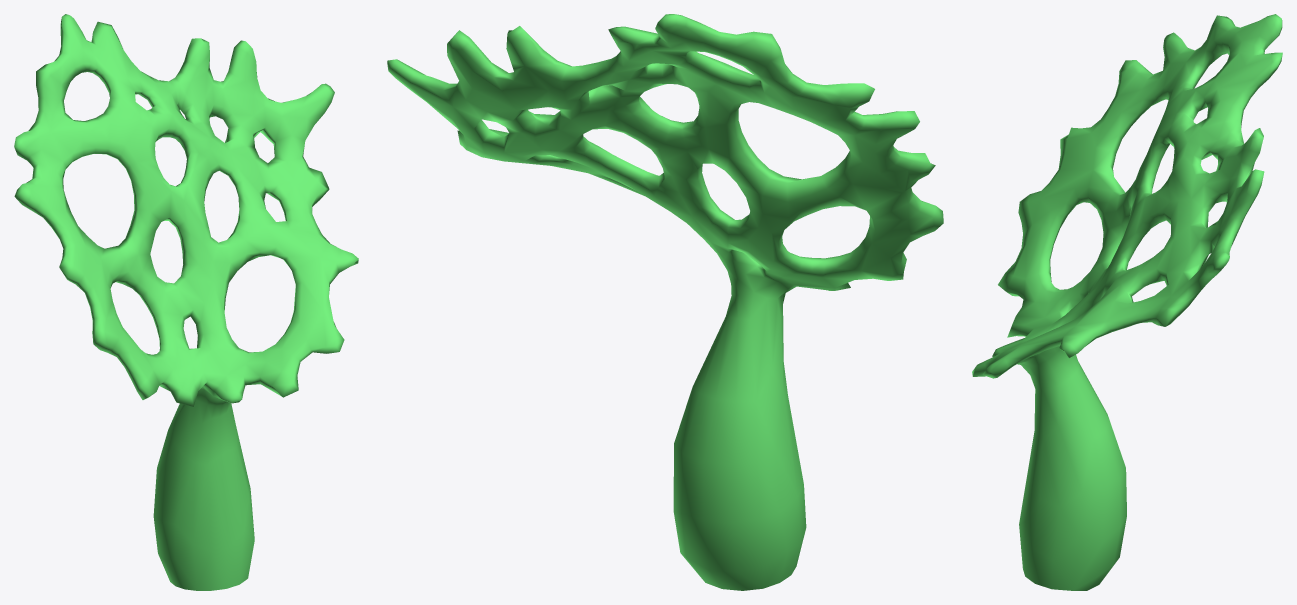
Rendered from M_Coral_Porus.fbx.
The picture shows the model from 3 angles, left to right: view 1: azimuth 30°, elevation 25°; view 2: azimuth 150°, elevation 25°; view 3: azimuth 270°, elevation 25°; orthographic projection. The views are drawn at different scales.
Visible parts, largest first — view 1: coral_porus; view 2: coral_porus; view 3: coral_porus.
Boxes of the visible parts, <box> form: coral_porus: <box>14,14,358,590</box>; coral_porus: <box>387,14,943,590</box>; coral_porus: <box>972,14,1282,590</box>.
Size of the model in its own units: 13.67 by 18.21 by 9.52.
